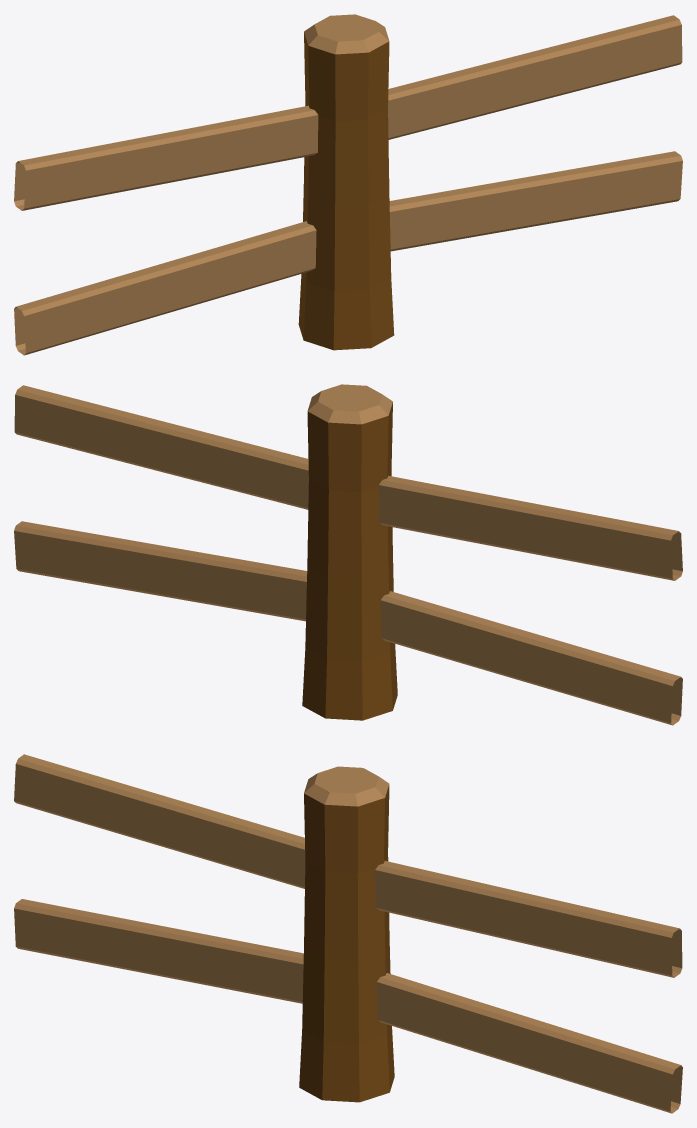
File: Fence.001.fbx
The picture shows the model from 3 angles, top to bottom: view 1: azimuth 30°, elevation 25°; view 2: azimuth 150°, elevation 25°; view 3: azimuth 330°, elevation 25°; orthographic projection.
Parts seen in each view (by area): view 1: Fence.001; view 2: Fence.001; view 3: Fence.001.
Boxes of the visible parts, x1=… form: Fence.001: x1=14, y1=14, x2=682, y2=355; Fence.001: x1=14, y1=384, x2=682, y2=725; Fence.001: x1=14, y1=754, x2=682, y2=1113.
Size of the model in its own units: 376 by 165 by 48.74.
